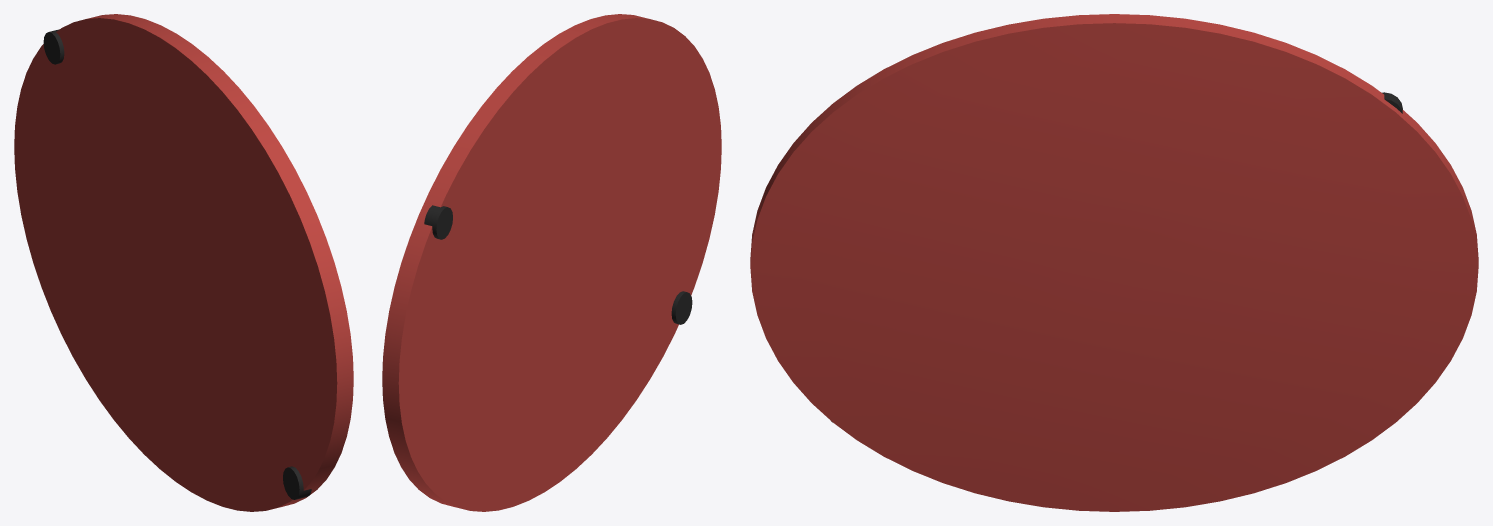
The model's file is oval.glb.
3 views of the same model, side by side, from view 1: azimuth 30°, elevation 25°; view 2: azimuth 150°, elevation 25°; view 3: azimuth 270°, elevation 25° (orthographic). The views are drawn at different scales.
Visible parts, largest first — view 1: lod0; view 2: lod0; view 3: lod0.
Boxes of the visible parts, x1,y1,x2,y2 form: lod0: (14,14,353,511); lod0: (382,14,721,511); lod0: (750,14,1478,511).
Size of what is drawn, in the model's own units: 0.0139 by 0.2 by 0.27.
